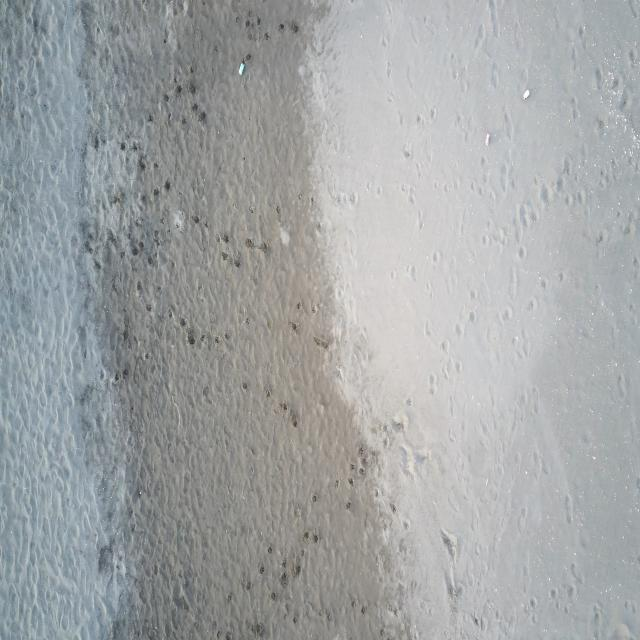Garbage: (239, 60, 244, 75), (523, 88, 529, 100), (484, 132, 489, 145)
